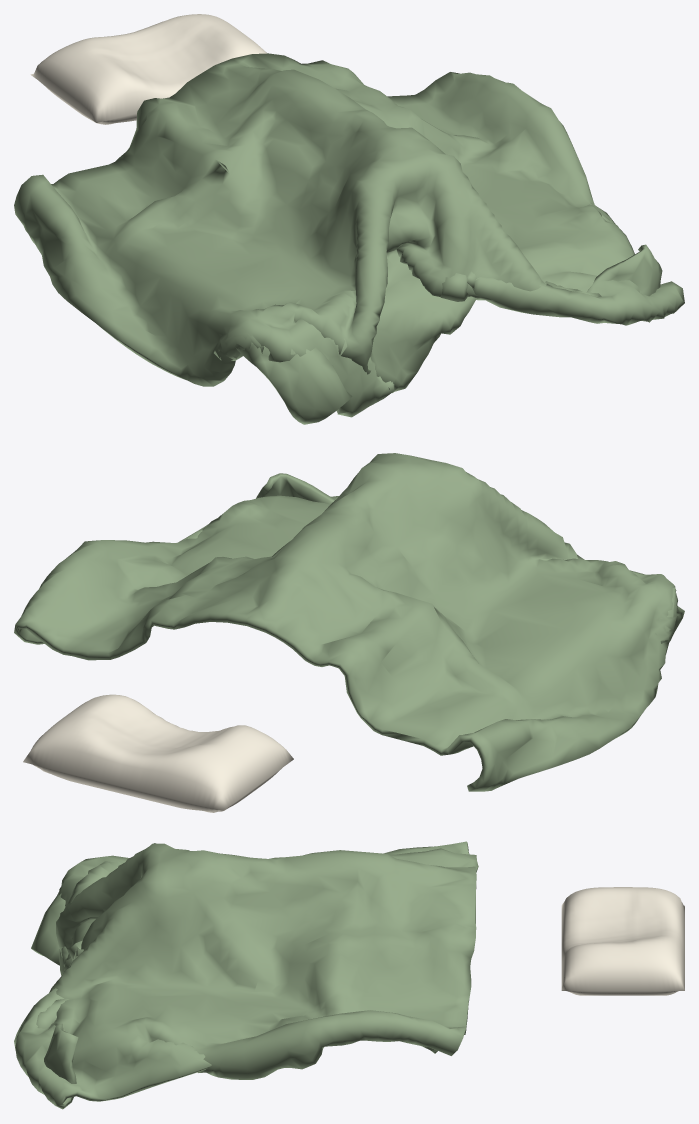
Rendered from bedding-lizard.glb.
The picture shows the model from 3 angles, top to bottom: view 1: azimuth 30°, elevation 25°; view 2: azimuth 150°, elevation 25°; view 3: azimuth 270°, elevation 25°; orthographic projection. The views are drawn at different scales.
Parts seen in each view (by area): view 1: sleep_duvet_lizard, sleep_pillow_lizard; view 2: sleep_duvet_lizard, sleep_pillow_lizard; view 3: sleep_duvet_lizard, sleep_pillow_lizard.
Boxes of the visible parts, x1,y1,x2,y2 form: sleep_duvet_lizard: [14, 53, 684, 424]; sleep_pillow_lizard: [30, 14, 267, 124]; sleep_duvet_lizard: [14, 453, 684, 791]; sleep_pillow_lizard: [23, 694, 293, 812]; sleep_duvet_lizard: [14, 841, 478, 1109]; sleep_pillow_lizard: [561, 887, 684, 995].
Bounding box in the file's own units: 1.88 × 0.749 × 2.39.
